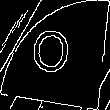O_S: (32, 27, 78, 83)
